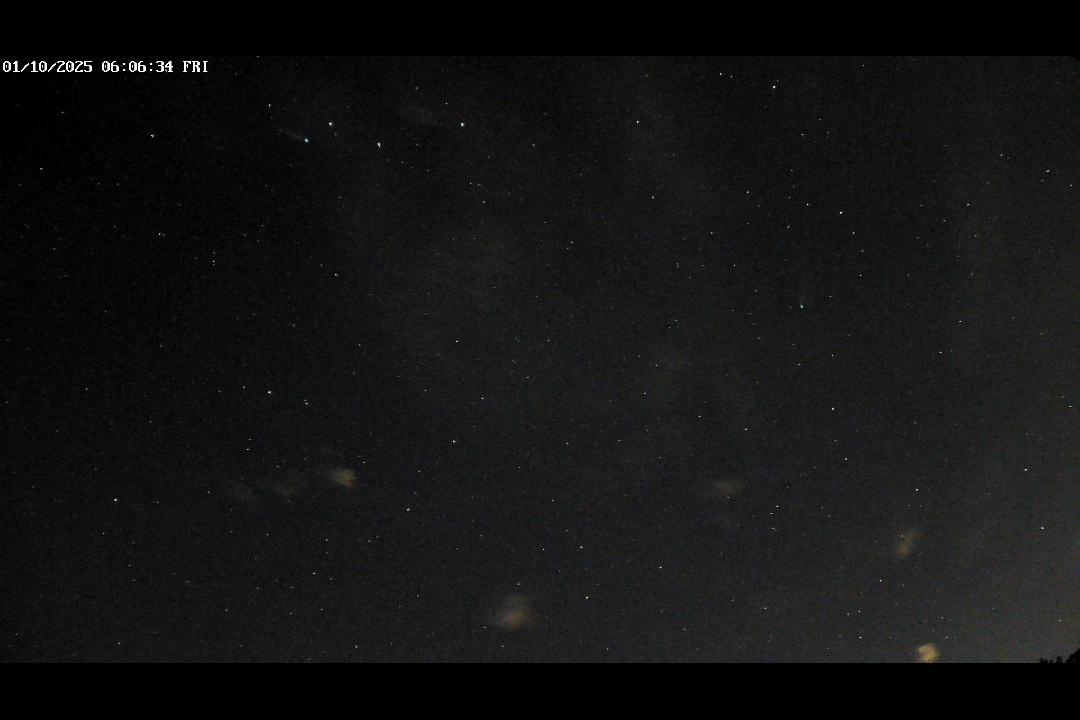Plane: (270, 127, 316, 149), (794, 272, 809, 315)
